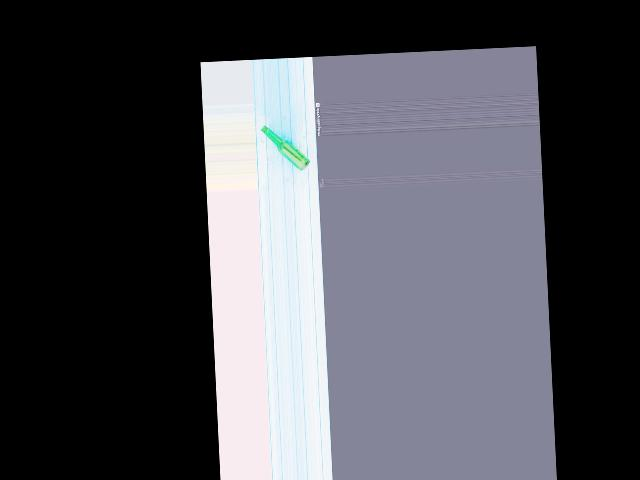beer: (261, 123, 311, 173)
